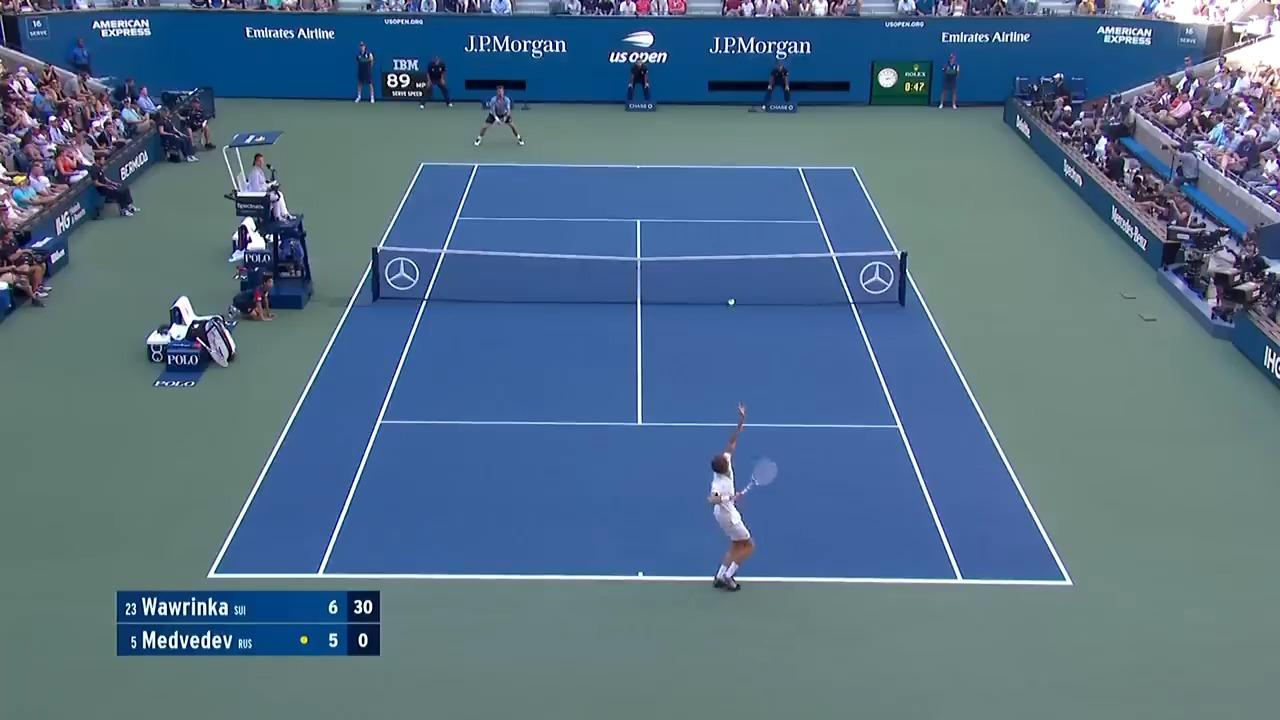tennis ball: (728, 299, 736, 306)
